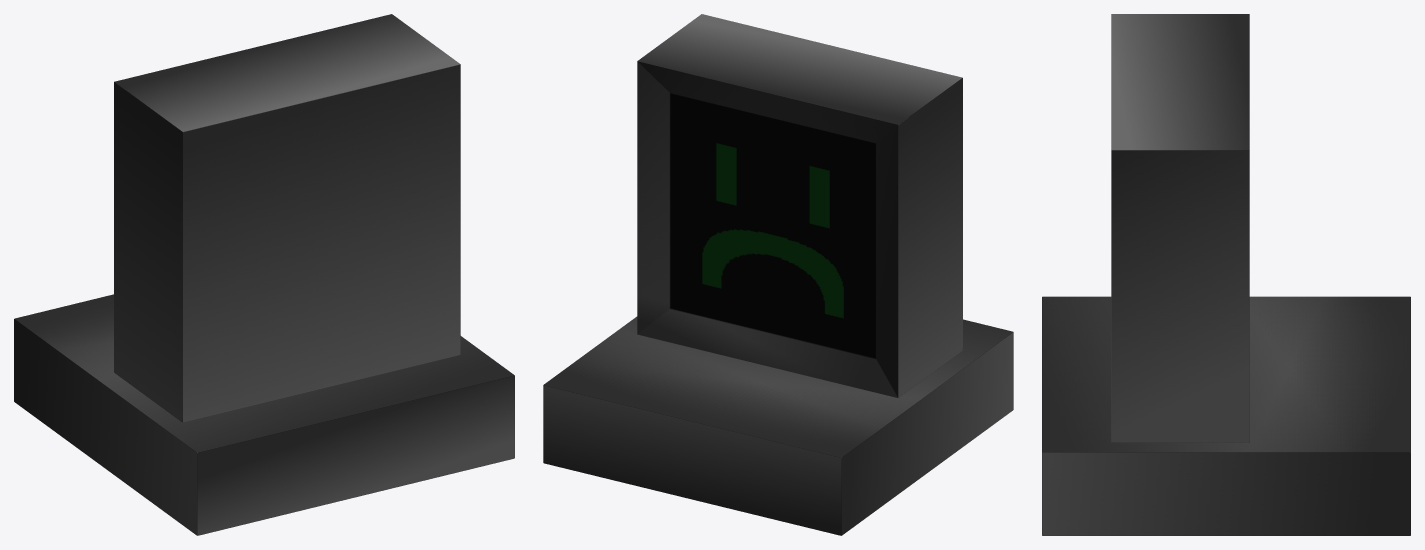
The model's file is Computer.fbx.
The picture shows the model from 3 angles, left to right: view 1: azimuth 30°, elevation 25°; view 2: azimuth 150°, elevation 25°; view 3: azimuth 270°, elevation 25°; orthographic projection. The views are drawn at different scales.
Parts seen in each view (by area): view 1: mesh_1, mesh; view 2: mesh_1, mesh; view 3: mesh, mesh_1.
Boxes of the visible parts, x1=… form: mesh_1: x1=114, y1=14, x2=460, y2=422; mesh: x1=14, y1=294, x2=514, y2=535; mesh_1: x1=637, y1=14, x2=962, y2=397; mesh: x1=543, y1=316, x2=1013, y2=535; mesh: x1=1042, y1=296, x2=1410, y2=535; mesh_1: x1=1111, y1=14, x2=1249, y2=442.
Bounding box in the file's own units: 100 × 112 × 100.
Materials: 2 (2 with a texture image).
